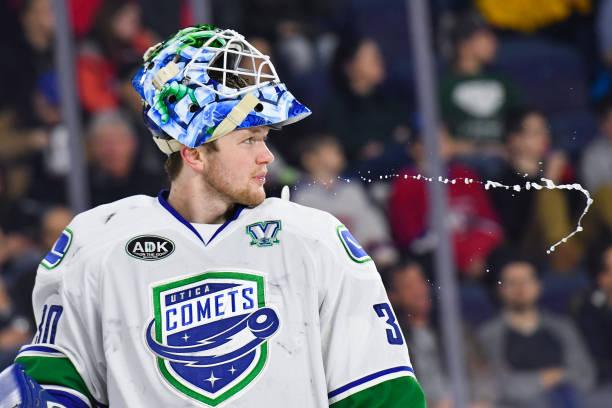Spitting: (129, 10, 371, 216)
